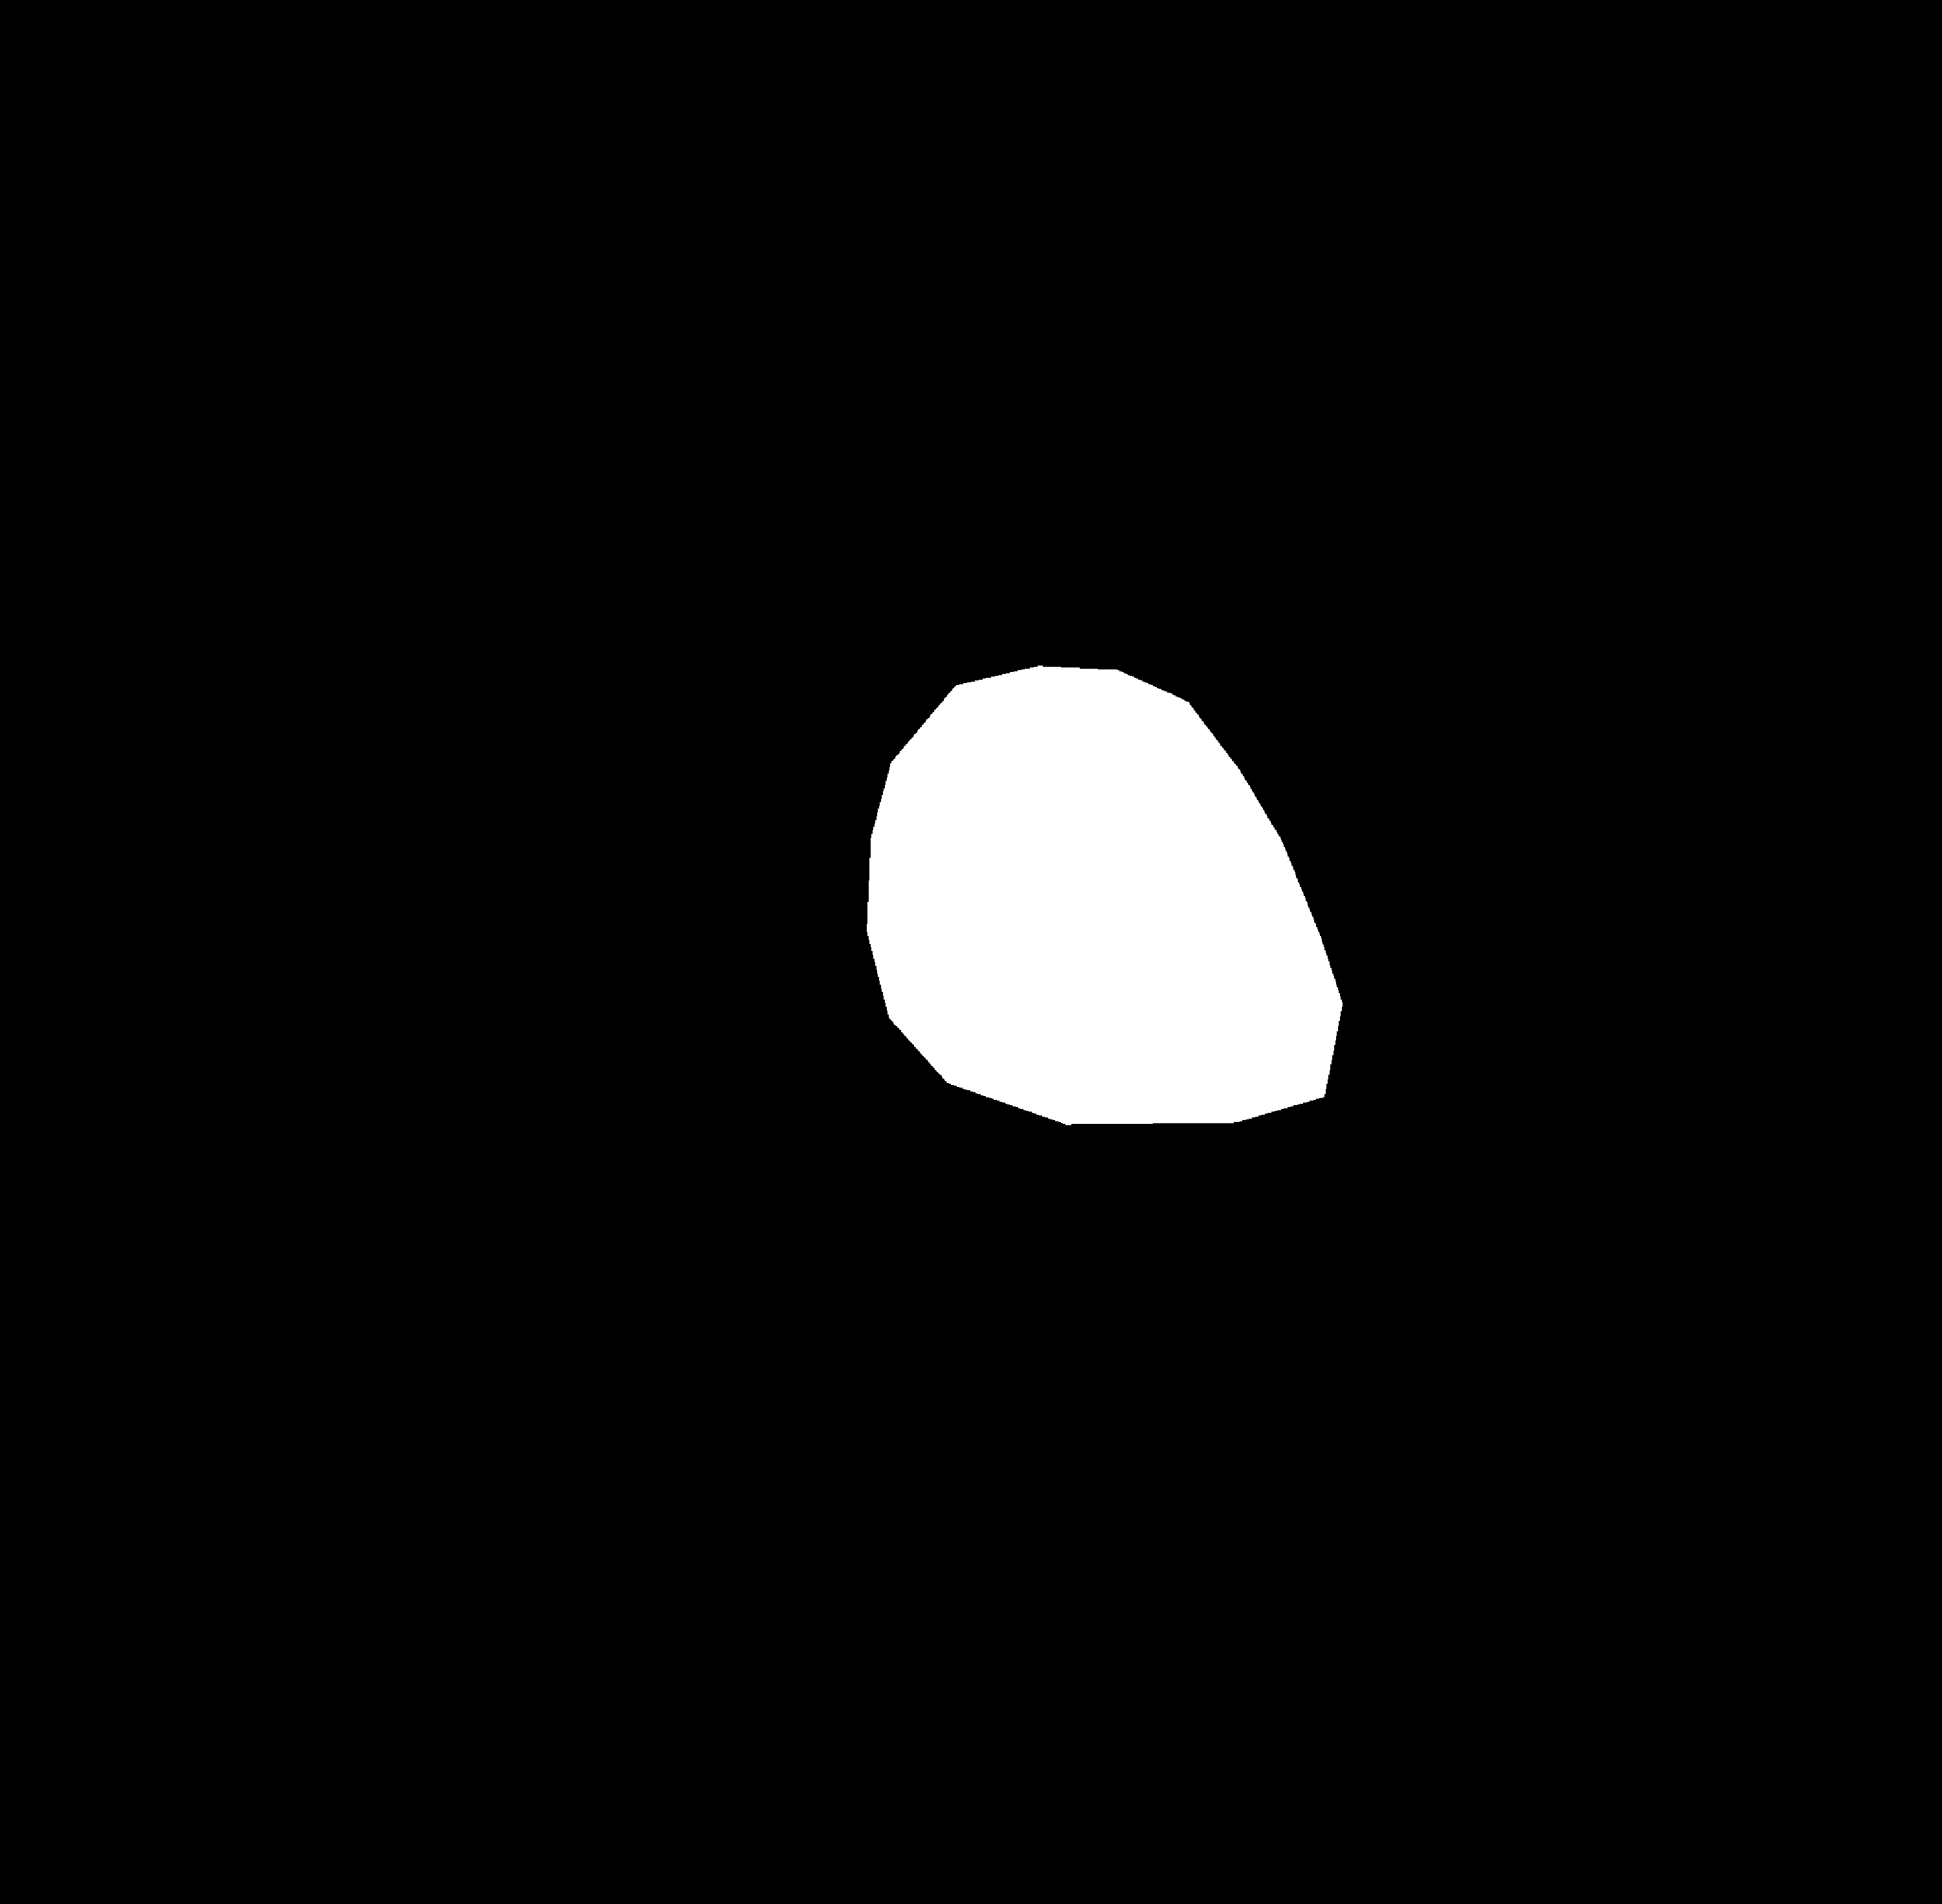heart: (866, 746, 1335, 1182)
left_lung: (356, 134, 924, 1287)
right_lung: (1060, 119, 1633, 1271)
